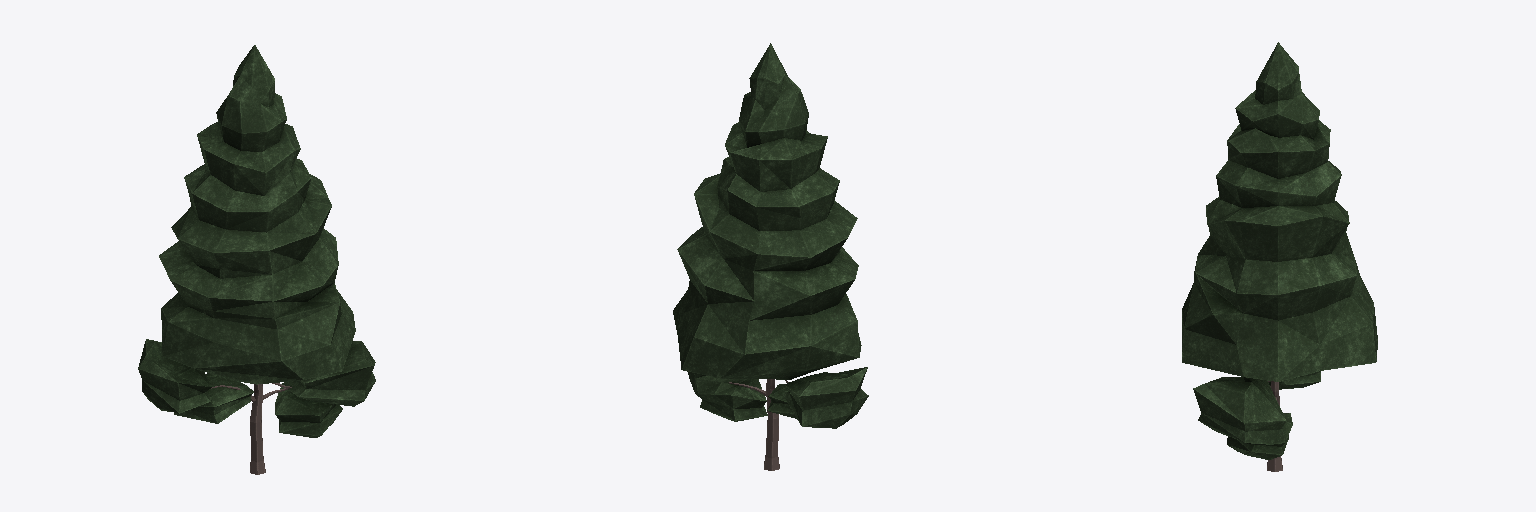
3 renders of one model, left to right at view 1: azimuth 30°, elevation 25°; view 2: azimuth 150°, elevation 25°; view 3: azimuth 270°, elevation 25°, orthographic.
Parts seen in each view (by area): view 1: SpruceTree_mesh; view 2: SpruceTree_mesh; view 3: SpruceTree_mesh.
Part boxes in pixels (left/top/right/bottom): SpruceTree_mesh: left=138, top=45, right=375, bottom=474; SpruceTree_mesh: left=673, top=43, right=868, bottom=470; SpruceTree_mesh: left=1182, top=42, right=1377, bottom=471.
Bounding box in the file's own units: 8.27 × 16.34 × 6.83.
1 materials, 1 textured.